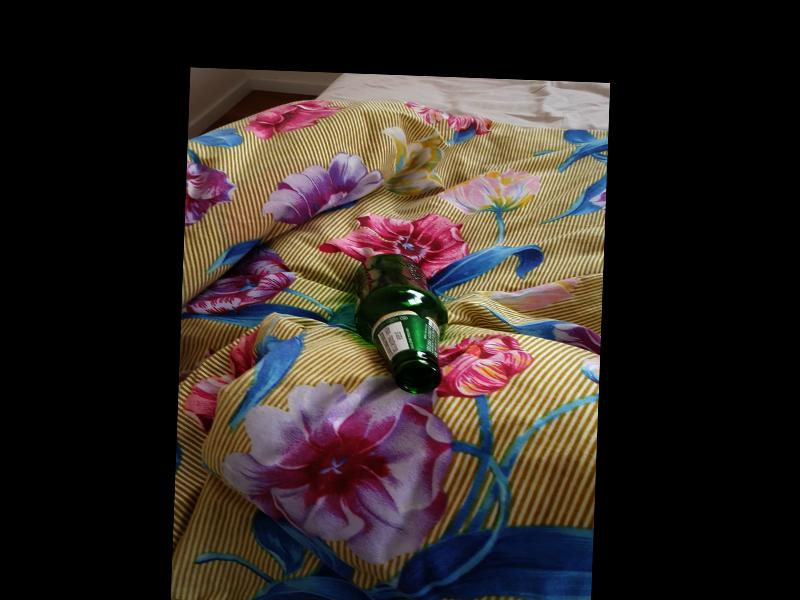Beer: (354, 253, 449, 394)
